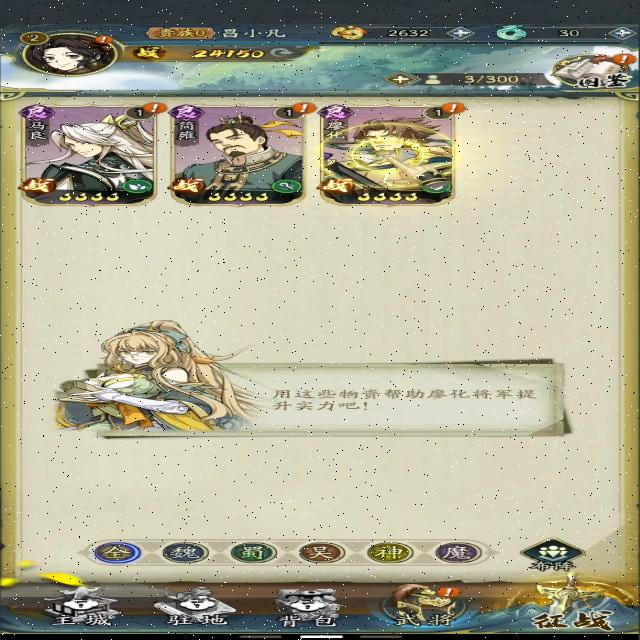hint-guide: (55, 319, 580, 441)
hint-reddot: (284, 100, 324, 118), (435, 100, 471, 116), (136, 100, 170, 116), (606, 52, 638, 66), (433, 586, 462, 599), (88, 34, 114, 47)
navigation-fight: (500, 572, 638, 632)
navigation-hero: (374, 582, 472, 628)
navigation-myHeroes: (320, 98, 468, 210), (166, 98, 315, 208), (16, 100, 162, 212)
navigation-role: (5, 27, 135, 79)
navigation-station-off: (152, 584, 236, 626)
operation-camp: (226, 540, 282, 565), (360, 540, 416, 565), (156, 540, 211, 564), (430, 540, 485, 564), (295, 540, 348, 564), (92, 541, 141, 563)
operation-deployment: (514, 534, 588, 574)
